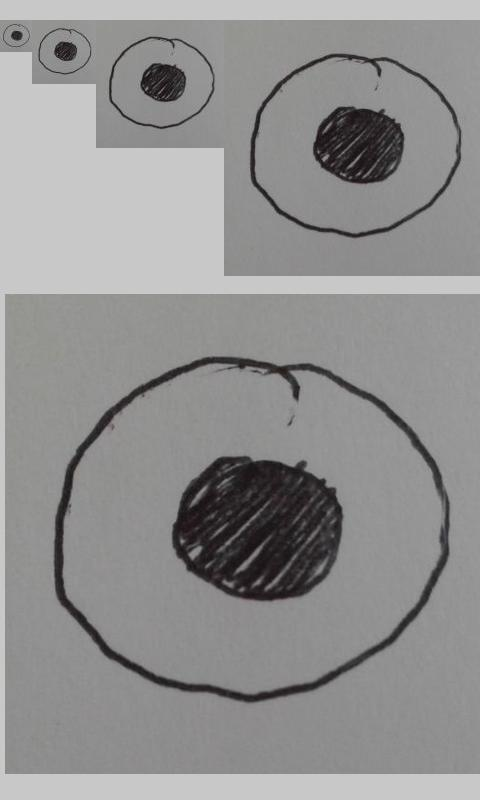radio_button: (49, 353, 453, 707), (247, 50, 465, 244), (107, 35, 216, 130), (37, 26, 94, 76), (2, 23, 31, 48)
